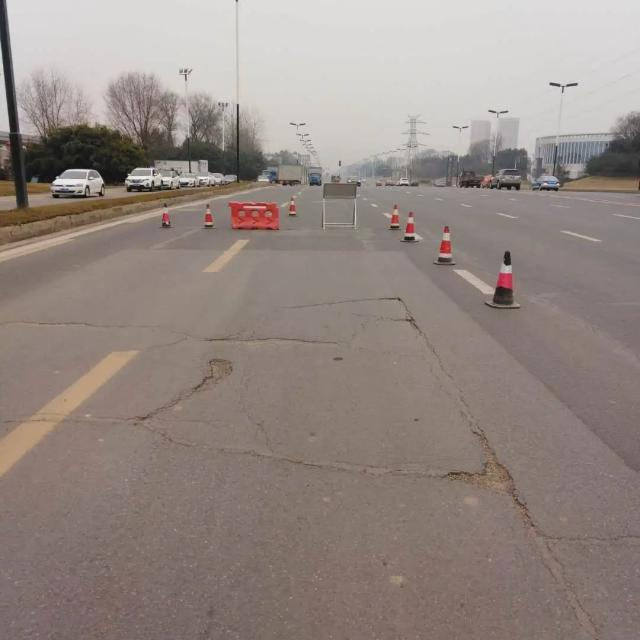Pothole: (382, 294, 565, 546), (196, 347, 240, 403)
